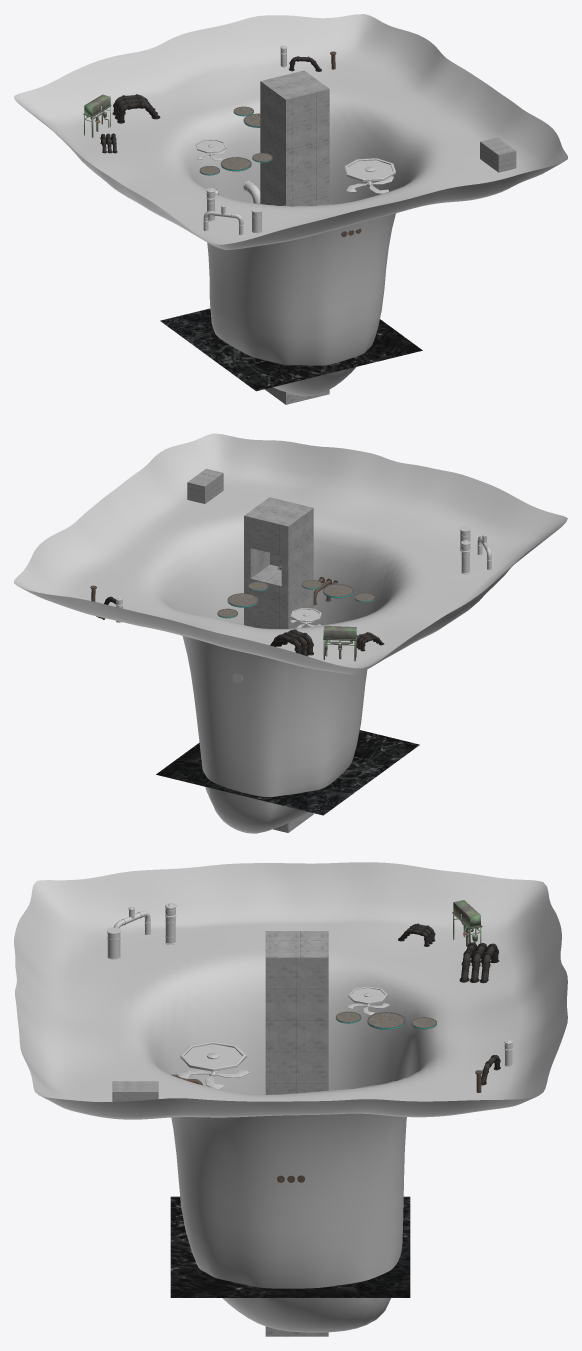
File: map3.fbx
3 views of the same model, one above another, from view 1: azimuth 30°, elevation 25°; view 2: azimuth 150°, elevation 25°; view 3: azimuth 270°, elevation 25° (orthographic). The views are drawn at different scales.
Parts seen in each view (by area): view 1: pPlane1, tower_Mesh, oil, Platform, pCube2, RUS_CET_propsF_2, post1; view 2: pPlane1, tower_Mesh, oil, pCube2, post1, RUS_CET_propsF_2; view 3: pPlane1, tower_Mesh, oil, Platform, RUS_CET_propsF_2, pCube2, post1.
Boxes of the visible parts, left/top/right/bottom form: pPlane1: left=14, top=14, right=567, bottom=396; tower_Mesh: left=260, top=70, right=329, bottom=404; oil: left=160, top=308, right=422, bottom=391; Platform: left=344, top=158, right=395, bottom=184; pCube2: left=480, top=137, right=516, bottom=172; RUS_CET_propsF_2: left=112, top=94, right=160, bottom=123; post1: left=83, top=94, right=111, bottom=137; pPlane1: left=14, top=433, right=567, bottom=833; tower_Mesh: left=244, top=497, right=313, bottom=832; oil: left=156, top=730, right=419, bottom=815; pCube2: left=187, top=468, right=223, bottom=503; post1: left=323, top=626, right=357, bottom=661; RUS_CET_propsF_2: left=270, top=629, right=313, bottom=656; pPlane1: left=14, top=862, right=567, bottom=1332; tower_Mesh: left=265, top=931, right=328, bottom=1336; oil: left=170, top=1196, right=410, bottom=1297; Platform: left=180, top=1041, right=246, bottom=1074; RUS_CET_propsF_2: left=459, top=942, right=499, bottom=983; pCube2: left=112, top=1081, right=158, bottom=1101; post1: left=452, top=900, right=482, bottom=946.
Size of the model in its own units: 220 by 166 by 220.
